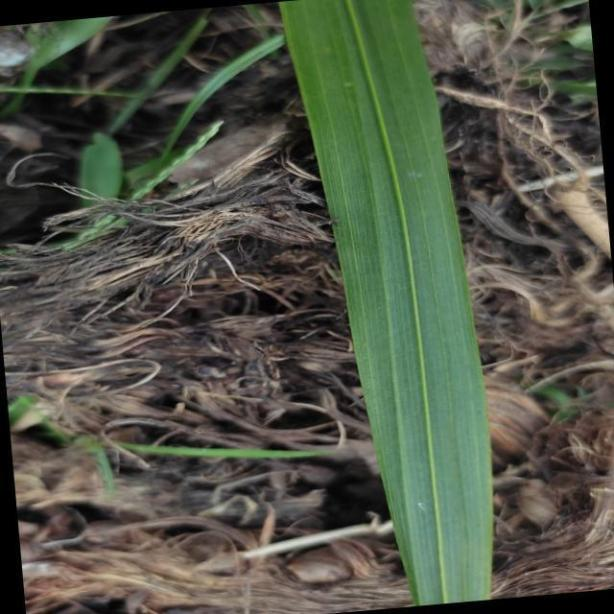Healthy: (278, 0, 494, 614)
